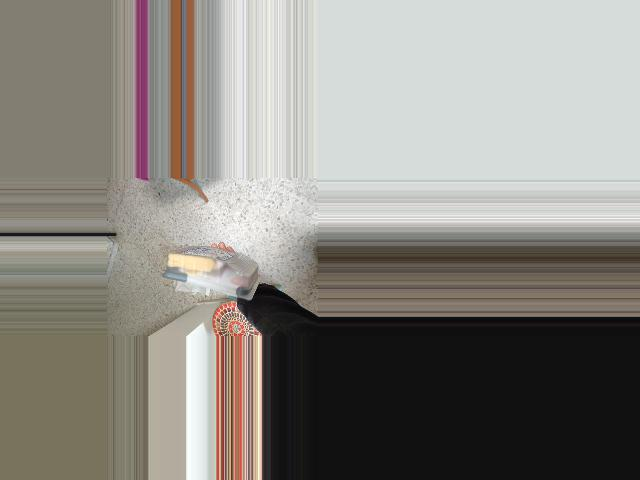cheese: (162, 244, 257, 303)
